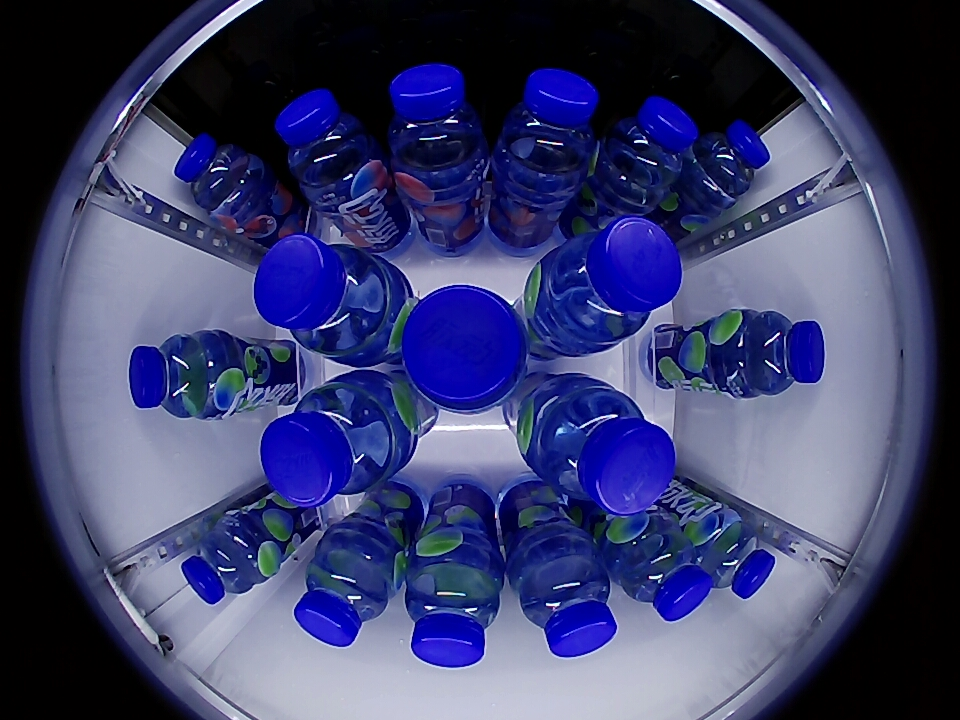maidong: (545, 215, 685, 345), (537, 386, 677, 514), (259, 380, 398, 508), (253, 234, 392, 357), (400, 284, 528, 414), (496, 67, 601, 182), (385, 62, 487, 180), (274, 88, 381, 200), (404, 549, 502, 669), (515, 549, 618, 659), (293, 541, 394, 648), (610, 525, 714, 622), (601, 96, 699, 196), (128, 331, 227, 419), (730, 310, 826, 397), (173, 133, 265, 219), (181, 517, 269, 605), (688, 119, 771, 204), (694, 514, 776, 599)
